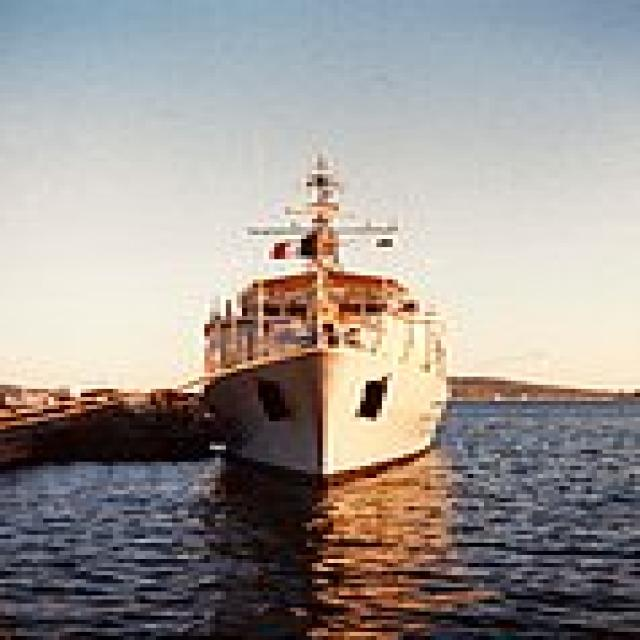Warship: (183, 146, 446, 478)
